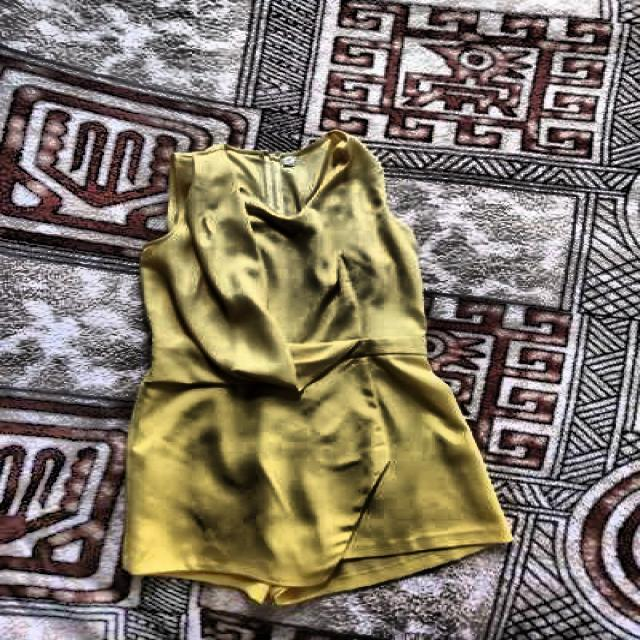clothes: (112, 131, 517, 599)
